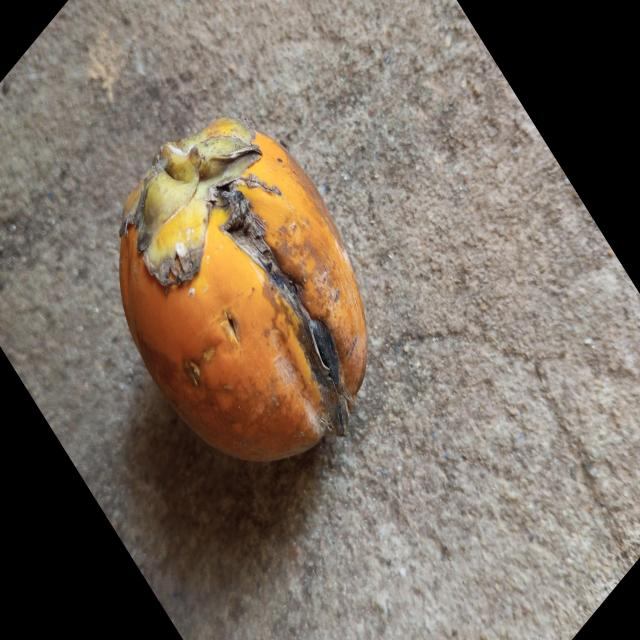damaged: (117, 119, 368, 466)
